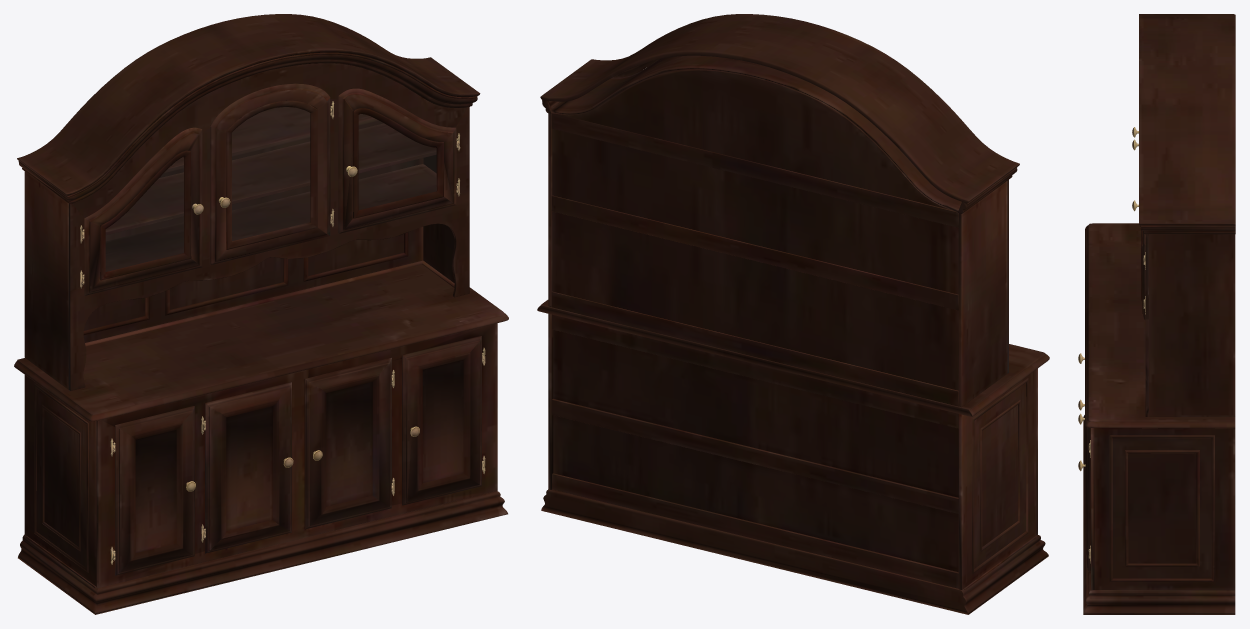
The model's file is vintage_cabinet_01.glb.
The picture shows the model from 3 angles, left to right: view 1: azimuth 30°, elevation 25°; view 2: azimuth 150°, elevation 25°; view 3: azimuth 270°, elevation 25°; orthographic projection. The views are drawn at different scales.
Parts seen in each view (by area): view 1: vintage_cabinet_01_body, vintage_cabinet_01_door_01; view 2: vintage_cabinet_01_body; view 3: vintage_cabinet_01_body.
Boxes of the visible parts, x1,y1,x2,y2 form: vintage_cabinet_01_body: [14, 14, 508, 614]; vintage_cabinet_01_door_01: [106, 107, 436, 271]; vintage_cabinet_01_body: [537, 14, 1049, 614]; vintage_cabinet_01_body: [1078, 14, 1235, 614].
Size of the model in its own units: 0.9045 by 1 by 0.2997.
Materials: 3 (2 with a texture image).
